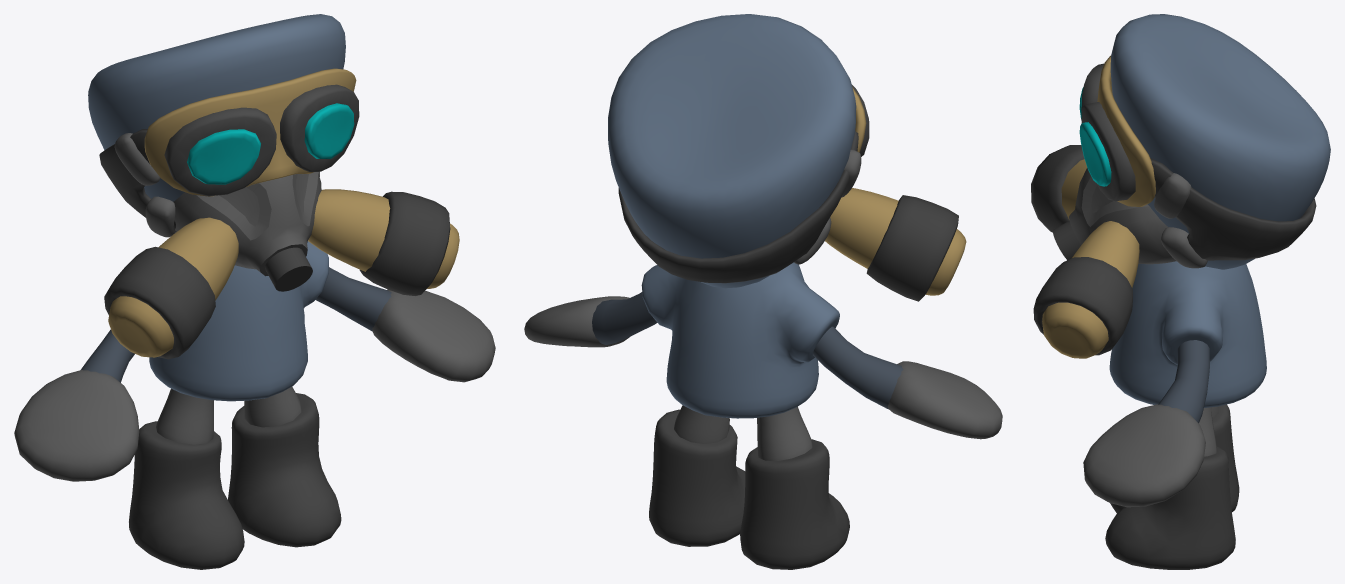
Rendered from Scout+rig 1.fbx.
3 views of the same model, side by side, from view 1: azimuth 30°, elevation 25°; view 2: azimuth 150°, elevation 25°; view 3: azimuth 270°, elevation 25° (orthographic). The views are drawn at different scales.
Parts seen in each view (by area): view 1: ScoutPreRetopt2; view 2: ScoutPreRetopt2; view 3: ScoutPreRetopt2.
Boxes of the visible parts, <box> form: ScoutPreRetopt2: <box>14,14,495,569</box>; ScoutPreRetopt2: <box>524,14,1002,569</box>; ScoutPreRetopt2: <box>1031,14,1330,569</box>.
Bounding box in the file's own units: 102 × 108 × 58.88.
